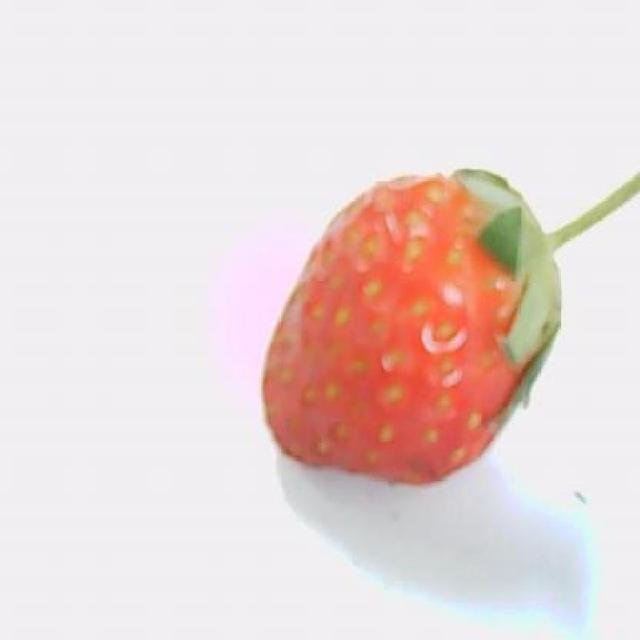strawberry: (262, 170, 639, 483)
